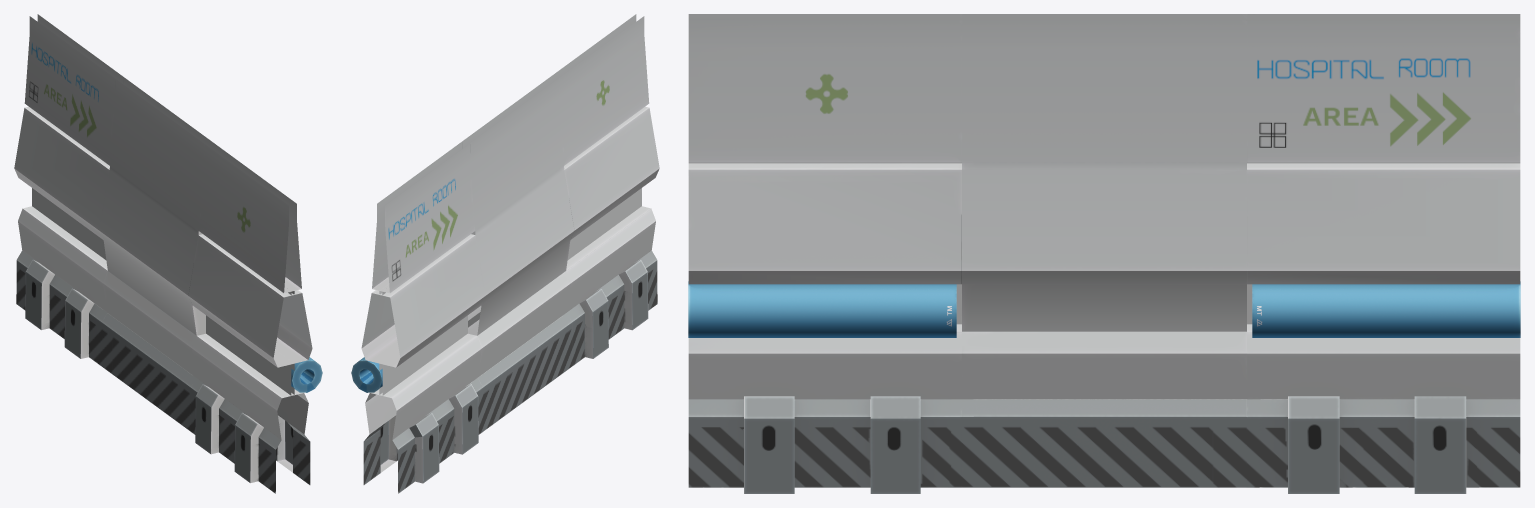
File: Wall_hospital_long.fbx
The picture shows the model from 3 angles, left to right: view 1: azimuth 30°, elevation 25°; view 2: azimuth 150°, elevation 25°; view 3: azimuth 270°, elevation 25°; orthographic projection. The views are drawn at different scales.
Parts seen in each view (by area): view 1: Wall_hospital, NurbsPath; view 2: Wall_hospital, NurbsPath; view 3: Wall_hospital, NurbsPath.
Part boxes in pixels (x1=…): Wall_hospital: x1=14, y1=14, x2=312, y2=493; NurbsPath: x1=291, y1=357, x2=322, y2=392; Wall_hospital: x1=361, y1=14, x2=659, y2=493; NurbsPath: x1=351, y1=357, x2=382, y2=392; Wall_hospital: x1=688, y1=14, x2=1520, y2=493; NurbsPath: x1=688, y1=281, x2=1520, y2=337.
Size of the model in its own units: 122 by 602 by 994.
Materials: 1 (1 with a texture image).
